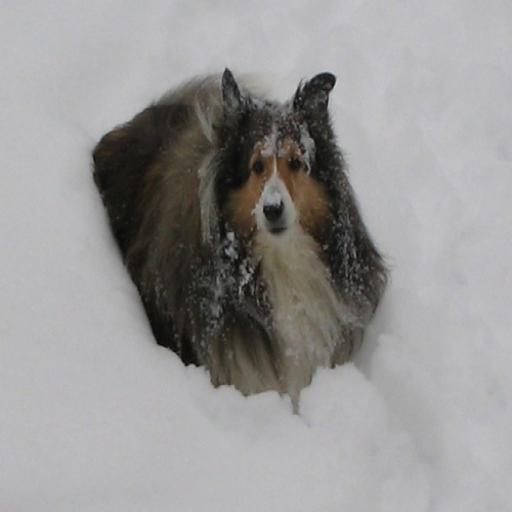dog_face: (219, 70, 333, 241)
